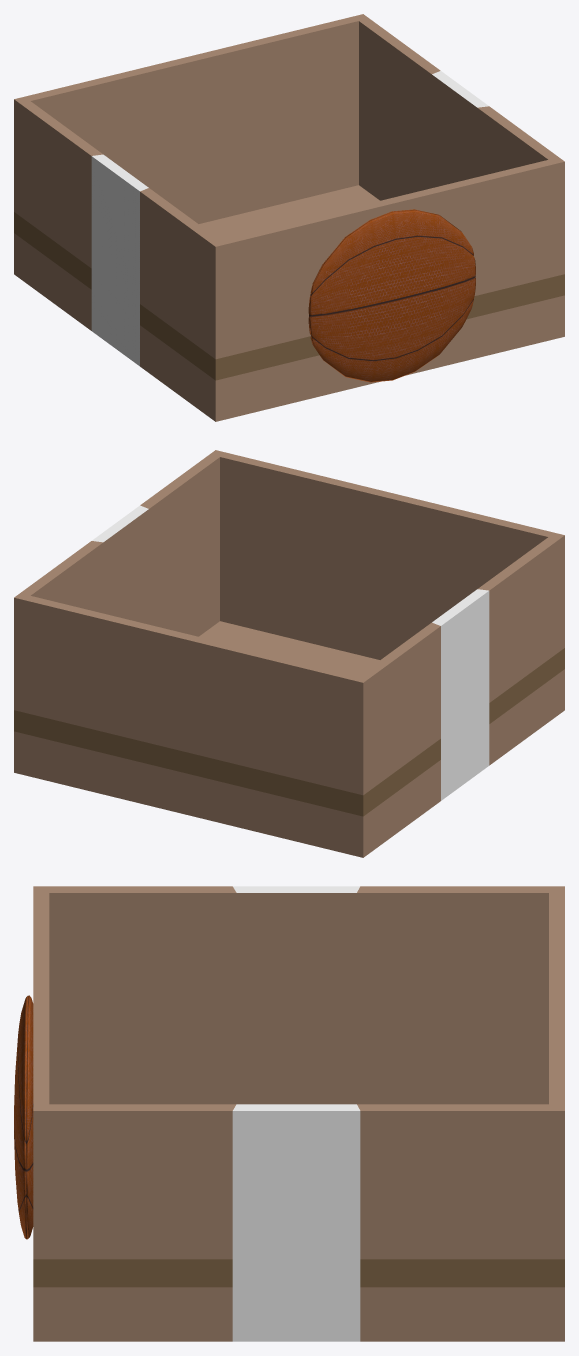
The model's file is BasketBallBox.gltf.
3 views of the same model, one above another, from view 1: azimuth 30°, elevation 25°; view 2: azimuth 150°, elevation 25°; view 3: azimuth 270°, elevation 25° (orthographic). The views are drawn at different scales.
Visible parts, largest first — view 1: Cube.003, basketball; view 2: Cube.003; view 3: Cube.003, basketball.
Part boxes in pixels (<box>): Cube.003: <box>14,14,564,421</box>; basketball: <box>308,209,475,382</box>; Cube.003: <box>14,450,564,857</box>; Cube.003: <box>33,886,564,1341</box>; basketball: <box>14,995,33,1239</box>.
Bounding box in the file's own units: 2 × 0.958 × 2.07.
Materials: 4 (1 with a texture image).
